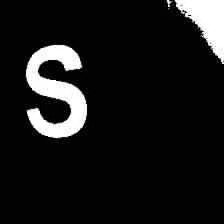LTR_S: (15, 37, 91, 142)
